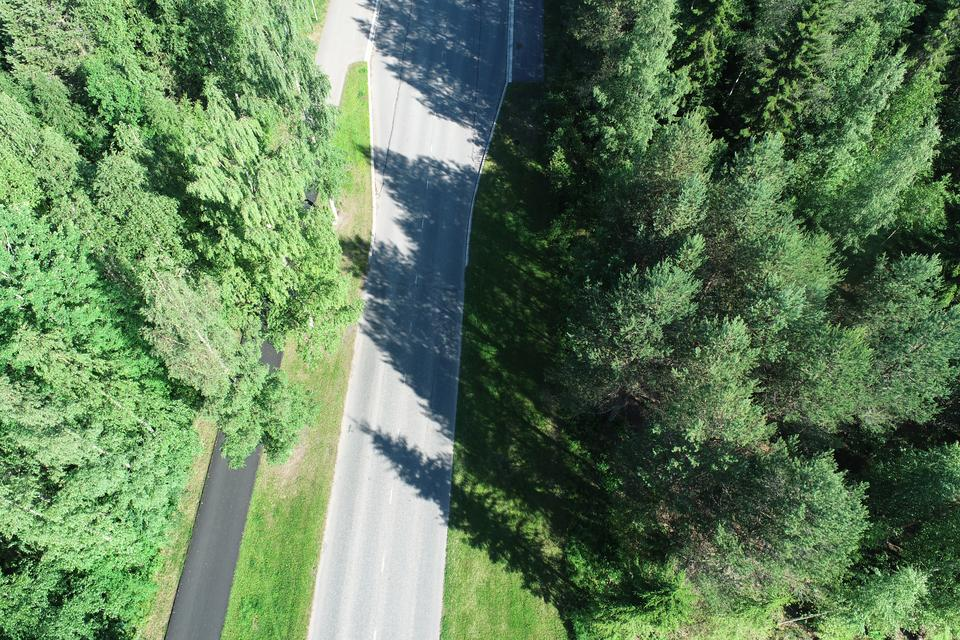intersection: (296, 0, 559, 114)
